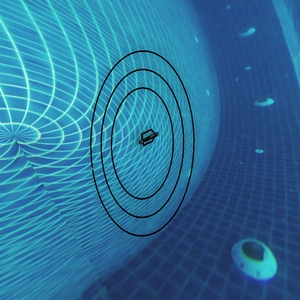circle: (86, 43, 201, 238)
